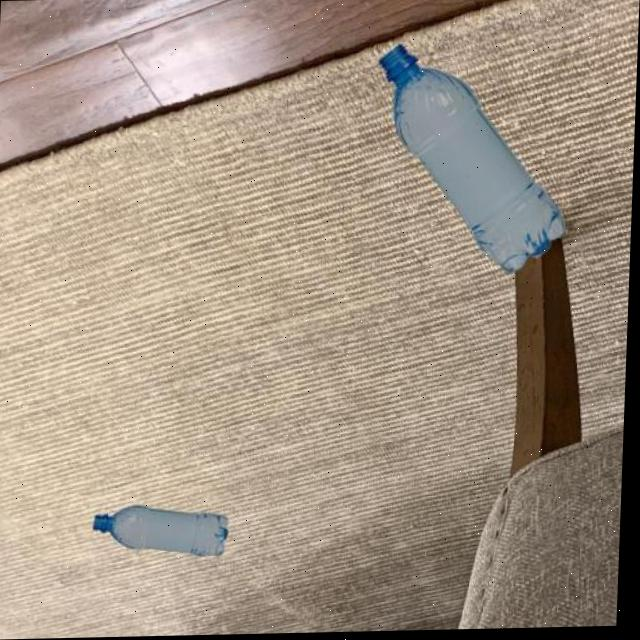bottle: (372, 41, 575, 281), (95, 503, 234, 562)
